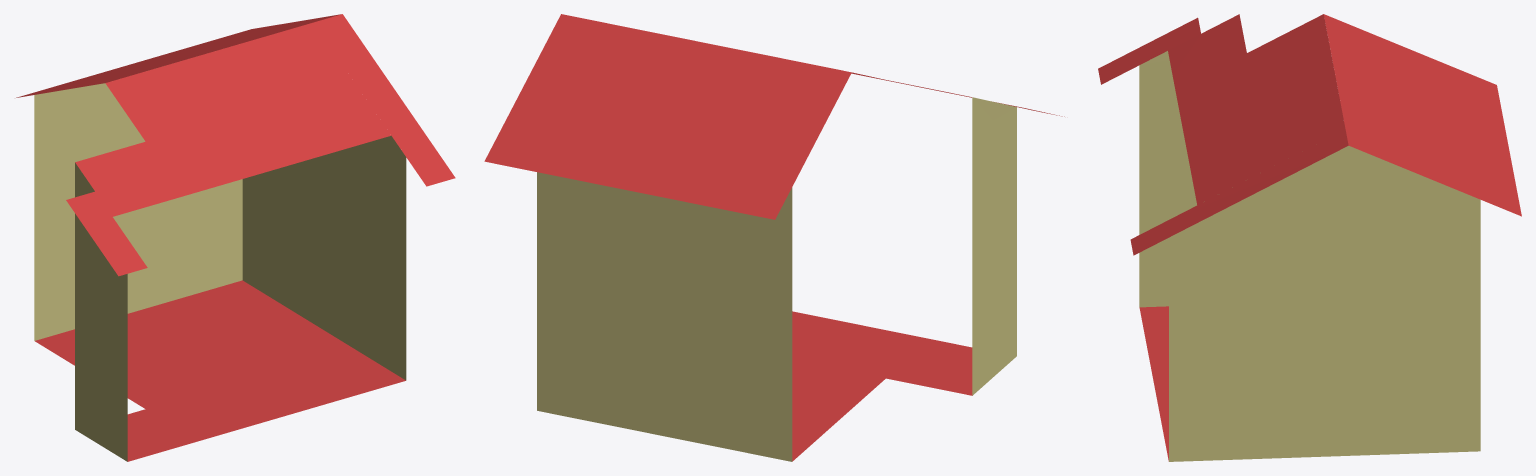
3 renders of one model, left to right at view 1: azimuth 30°, elevation 25°; view 2: azimuth 150°, elevation 25°; view 3: azimuth 270°, elevation 25°, orthographic. The views are drawn at different scales.
Parts seen in each view (by area): view 1: group_5, group_3, group_6, group_4; view 2: group_5, group_3, group_6, group_4; view 3: group_5, group_3, group_4, group_6.
Boxes of the visible parts, bbox=[...] form: group_5: bbox=[34, 83, 406, 461]; group_3: bbox=[16, 14, 455, 275]; group_6: bbox=[35, 280, 405, 461]; group_4: bbox=[18, 30, 451, 274]; group_5: bbox=[537, 97, 1016, 461]; group_3: bbox=[484, 14, 1064, 219]; group_6: bbox=[792, 311, 972, 461]; group_4: bbox=[486, 107, 1049, 219]; group_5: bbox=[1139, 51, 1480, 461]; group_3: bbox=[1098, 14, 1521, 255]; group_4: bbox=[1099, 19, 1521, 252]; group_6: bbox=[1139, 306, 1168, 461].
Bounding box in the file's own units: 8.78 × 8.26 × 7.02.
